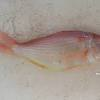Ikan Kerisi: (1, 26, 100, 74)
